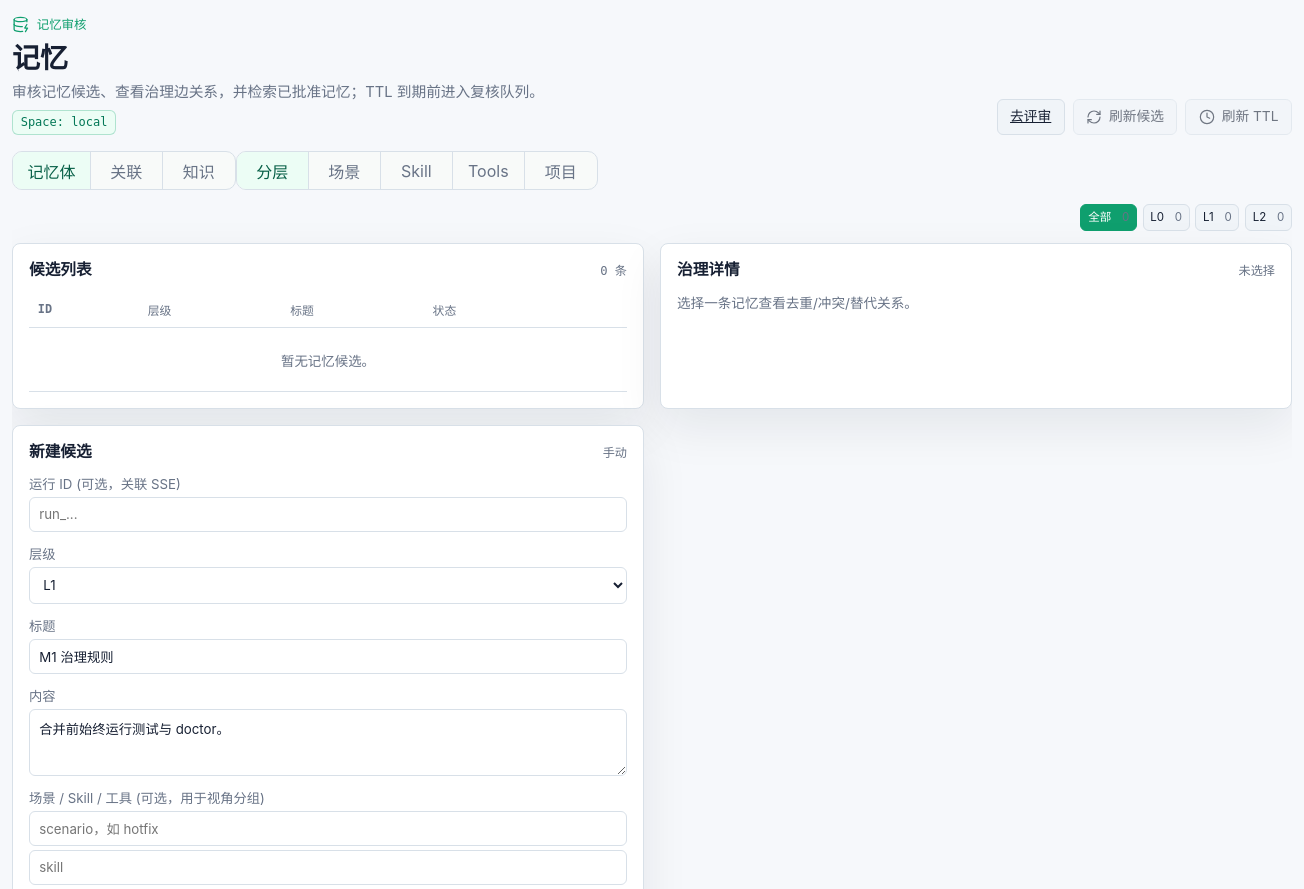
it: MemoryPage › switches to 关联 tab manually
Click the tab with test id "memory-tab-links" at (127, 171), box [91,152,163,189]
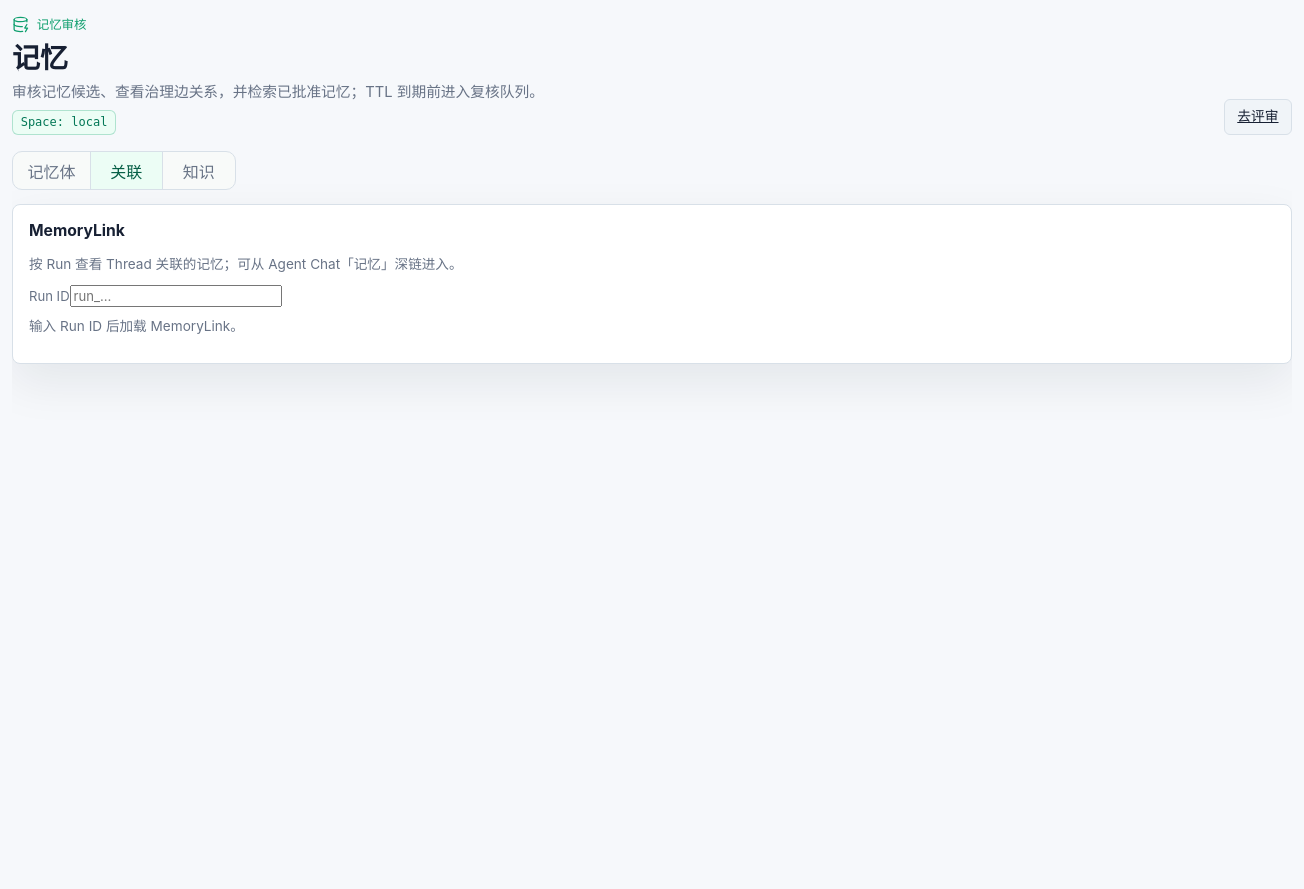
Check: the element with test id "memory-links-pane" is shown, box [12,204,1292,364]
Check: the element with test id "memory-perspective" is gone
